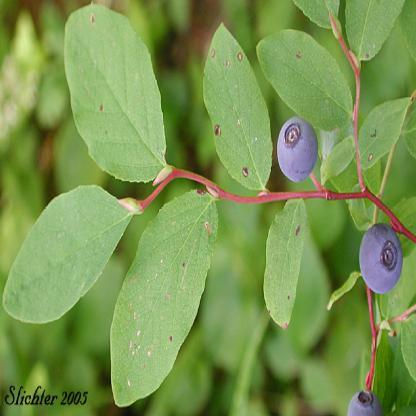Blueberry leaf: (106, 181, 223, 415), (2, 177, 132, 334), (64, 3, 174, 186), (192, 14, 274, 193), (251, 20, 357, 134), (258, 195, 310, 349), (358, 94, 414, 179)
